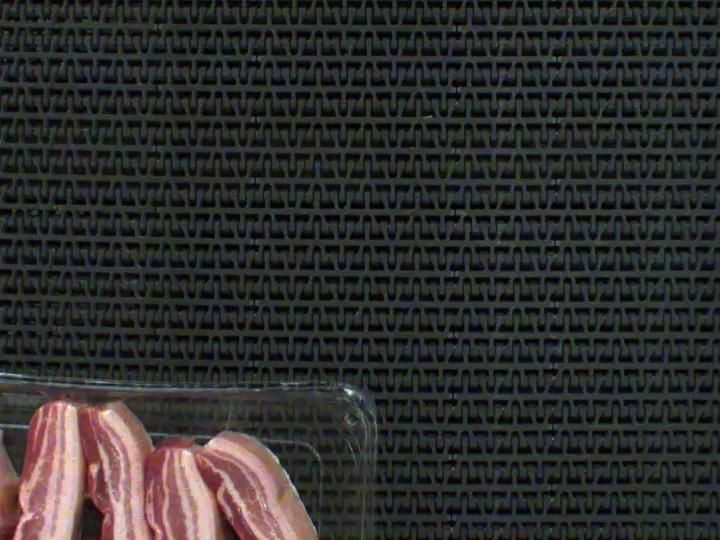loose-meat: (208, 445, 328, 540), (16, 414, 99, 540)
